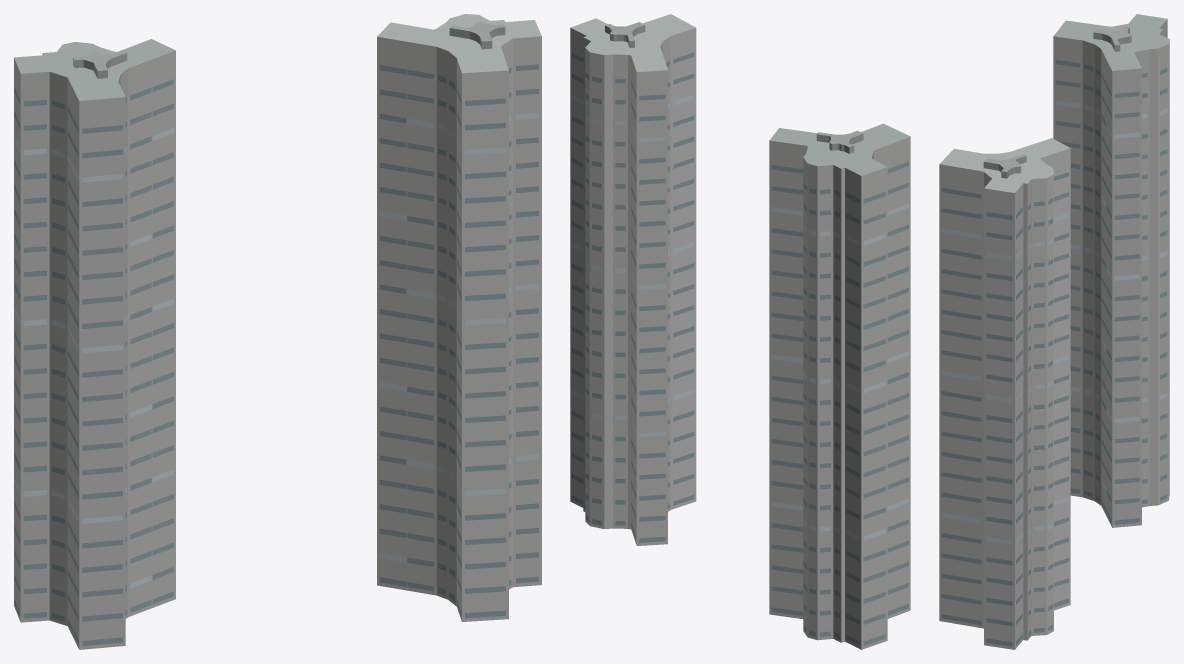
Rendered from apt-a13379401.glb.
3 renders of one model, left to right at view 1: azimuth 30°, elevation 25°; view 2: azimuth 150°, elevation 25°; view 3: azimuth 270°, elevation 25°, orthographic. The views are drawn at different scales.
Visible parts, largest first — view 1: apt-a13379401; view 2: apt-a13379401; view 3: apt-a13379401.
Boxes of the visible parts, <box> form: apt-a13379401: <box>14,14,541,649</box>; apt-a13379401: <box>570,14,910,649</box>; apt-a13379401: <box>939,14,1169,649</box>.
Size of the model in its own units: 142 by 172 by 77.2.
